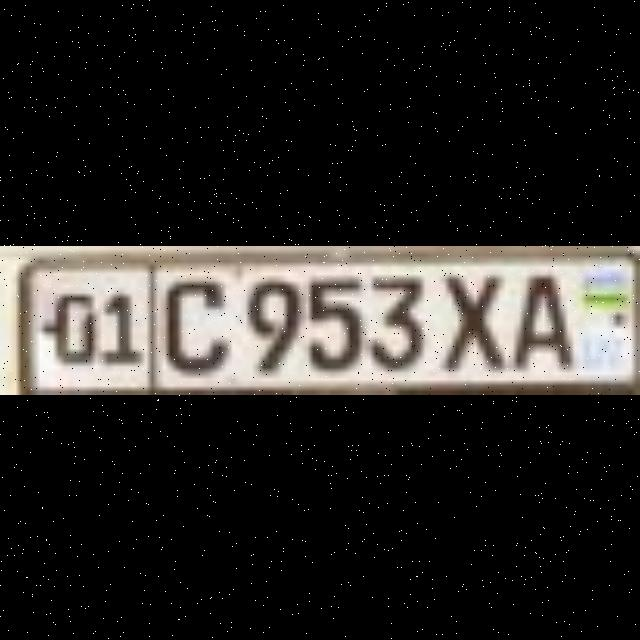0: (49, 282, 86, 358)
1: (100, 282, 130, 358)
3: (360, 264, 416, 356)
5: (304, 270, 354, 362)
9: (242, 270, 292, 362)
A: (509, 264, 565, 362)
C: (162, 270, 218, 362)
X: (441, 264, 497, 362)
